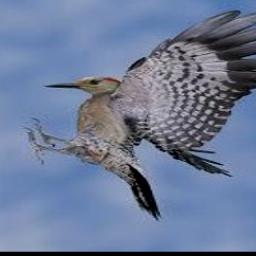Woodpecker: (24, 11, 256, 220)
